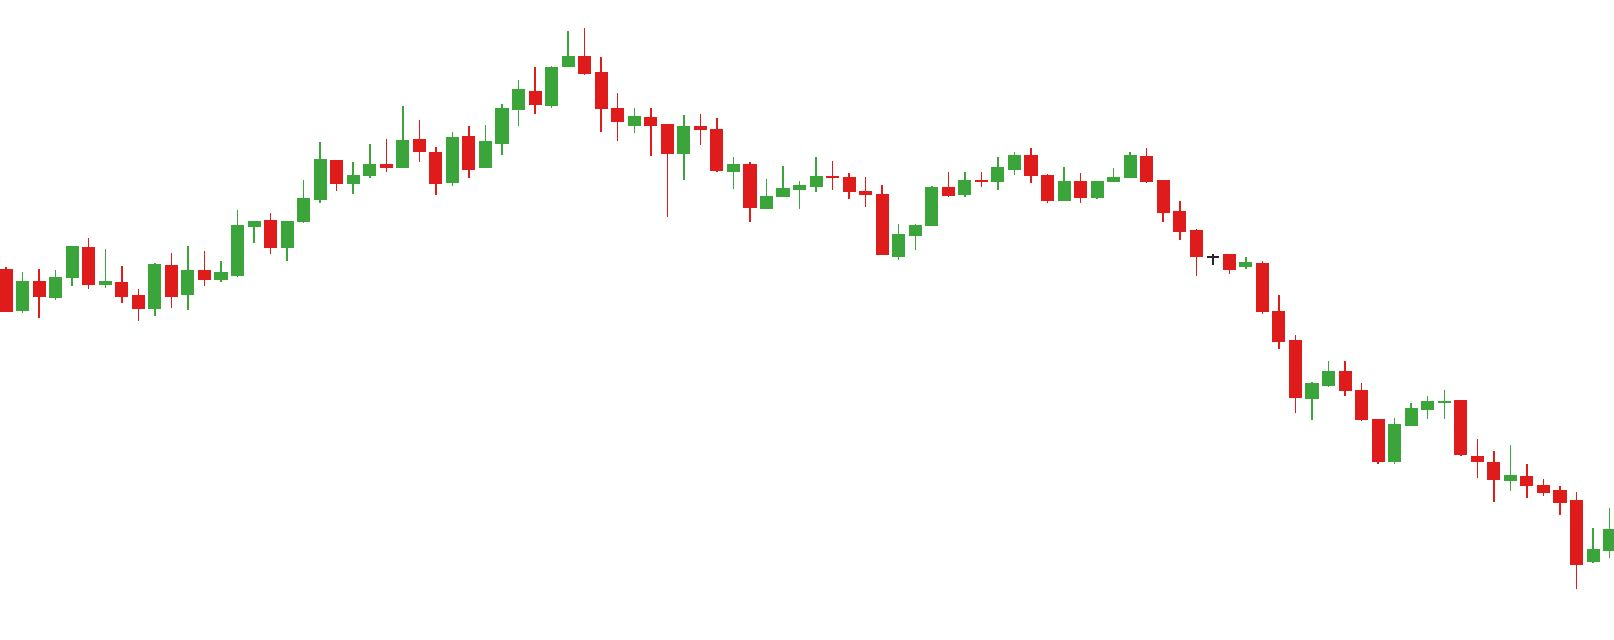buy: (31, 262, 166, 321)
